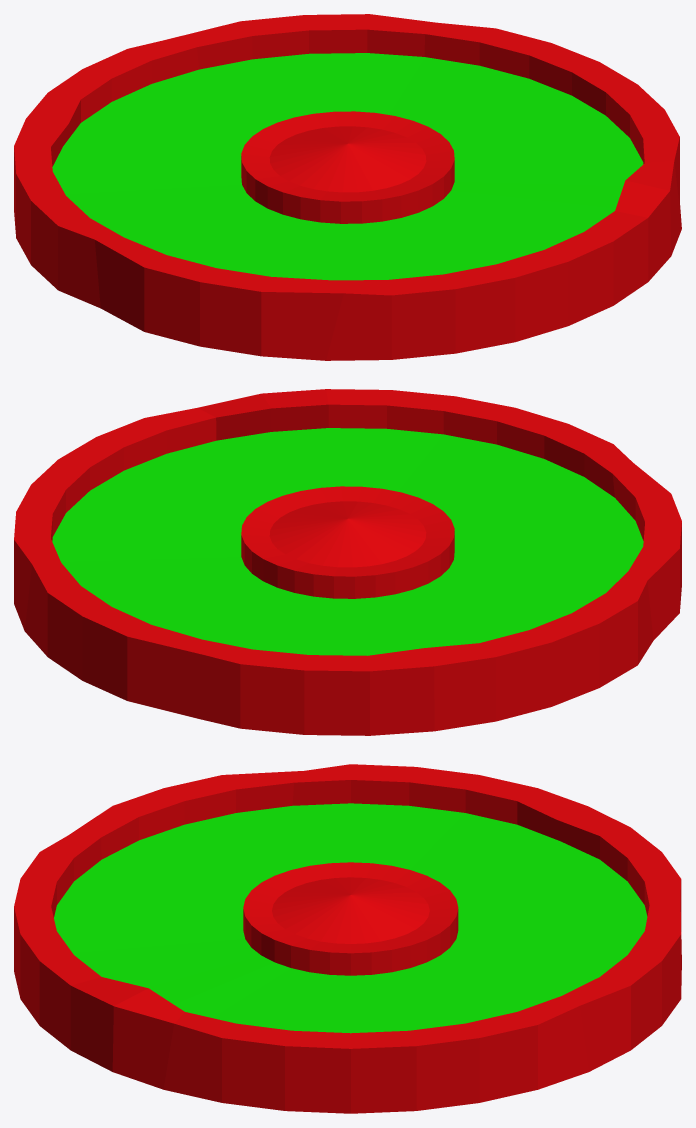
File: Shild_2.fbx
3 views of the same model, one above another, from view 1: azimuth 30°, elevation 25°; view 2: azimuth 150°, elevation 25°; view 3: azimuth 270°, elevation 25° (orthographic).
Visible parts, largest first — view 1: iron-shild-2, wood-shild-2; view 2: iron-shild-2, wood-shild-2; view 3: iron-shild-2, wood-shild-2.
Boxes of the visible parts, <box> form: iron-shild-2: <box>14,14,681,360</box>; wood-shild-2: <box>52,53,643,280</box>; iron-shild-2: <box>14,389,681,735</box>; wood-shild-2: <box>52,428,643,655</box>; iron-shild-2: <box>14,764,681,1113</box>; wood-shild-2: <box>54,803,647,1033</box>.
Size of the model in its own units: 200 by 25.06 by 198.
